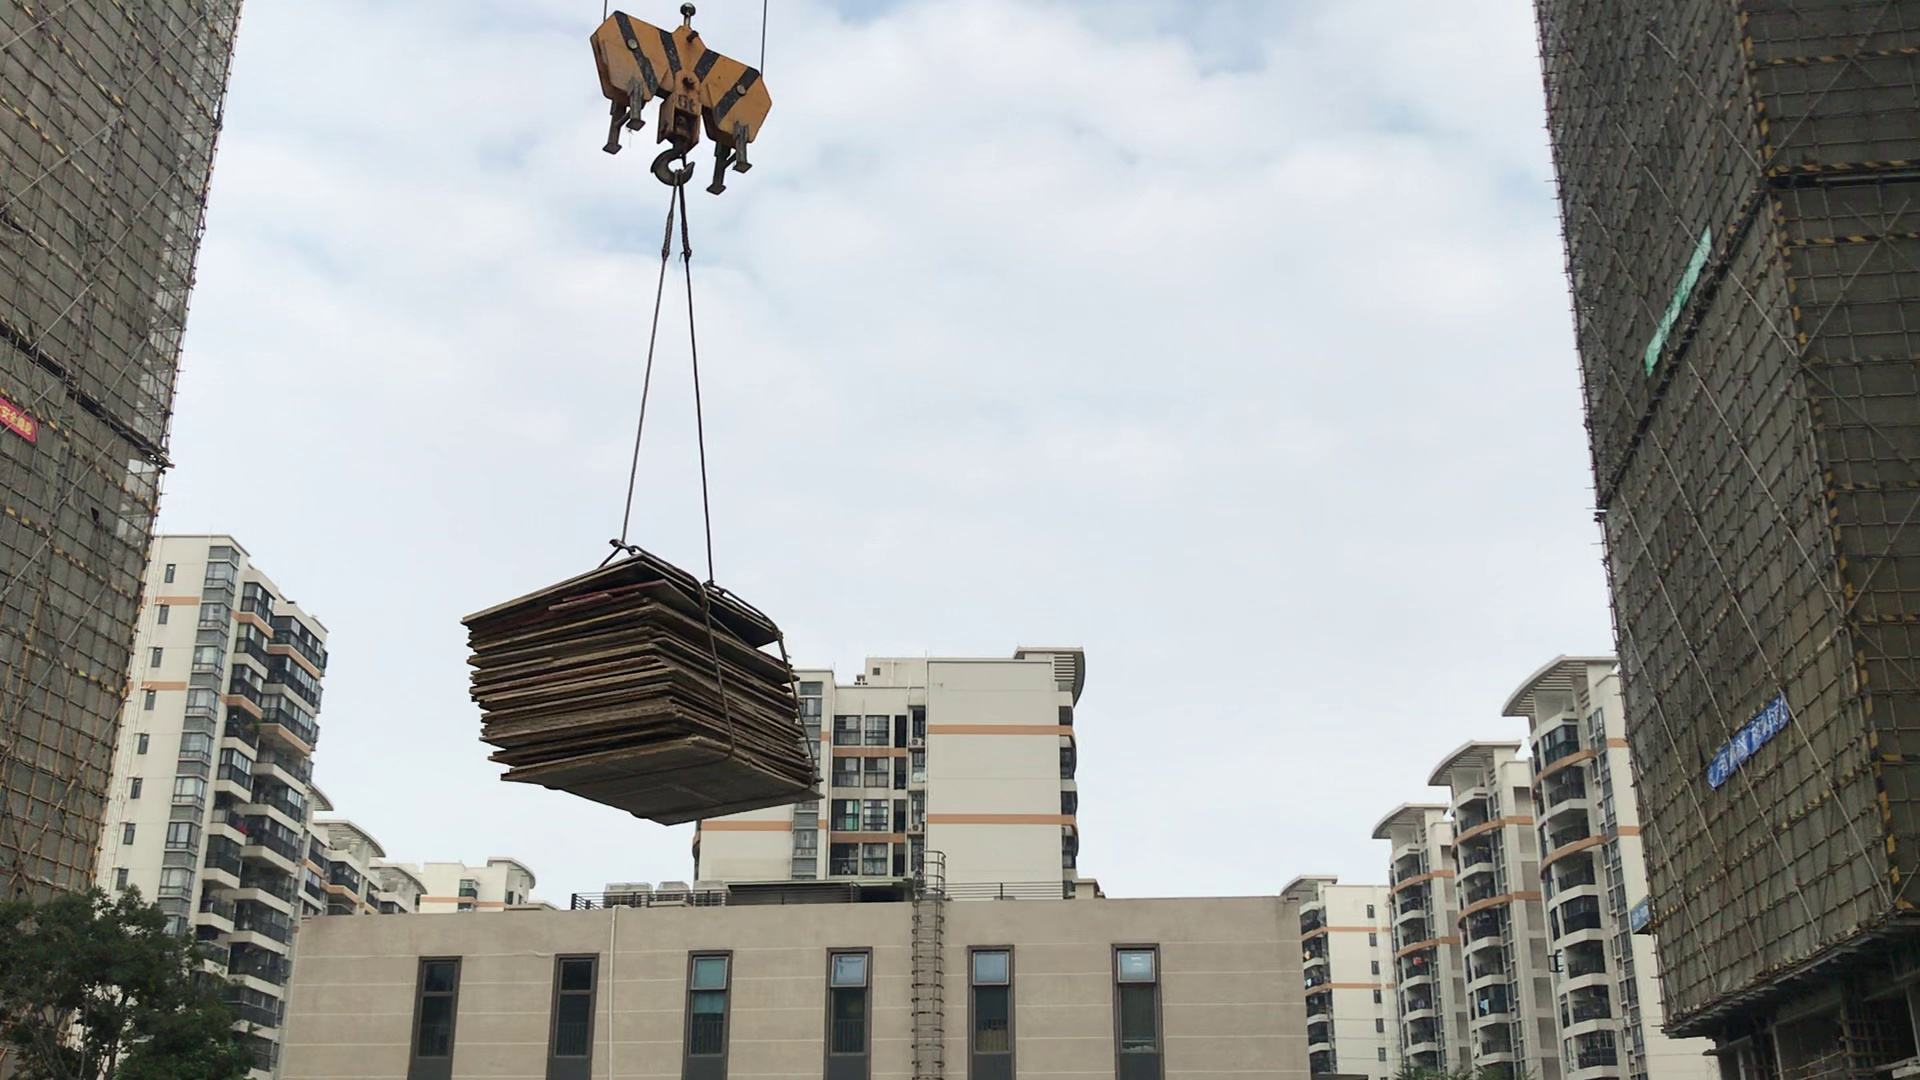board: (467, 551, 824, 825)
hook: (592, 1, 770, 200)
slogan: (1638, 227, 1712, 377), (1693, 704, 1803, 779), (1, 389, 36, 448)
